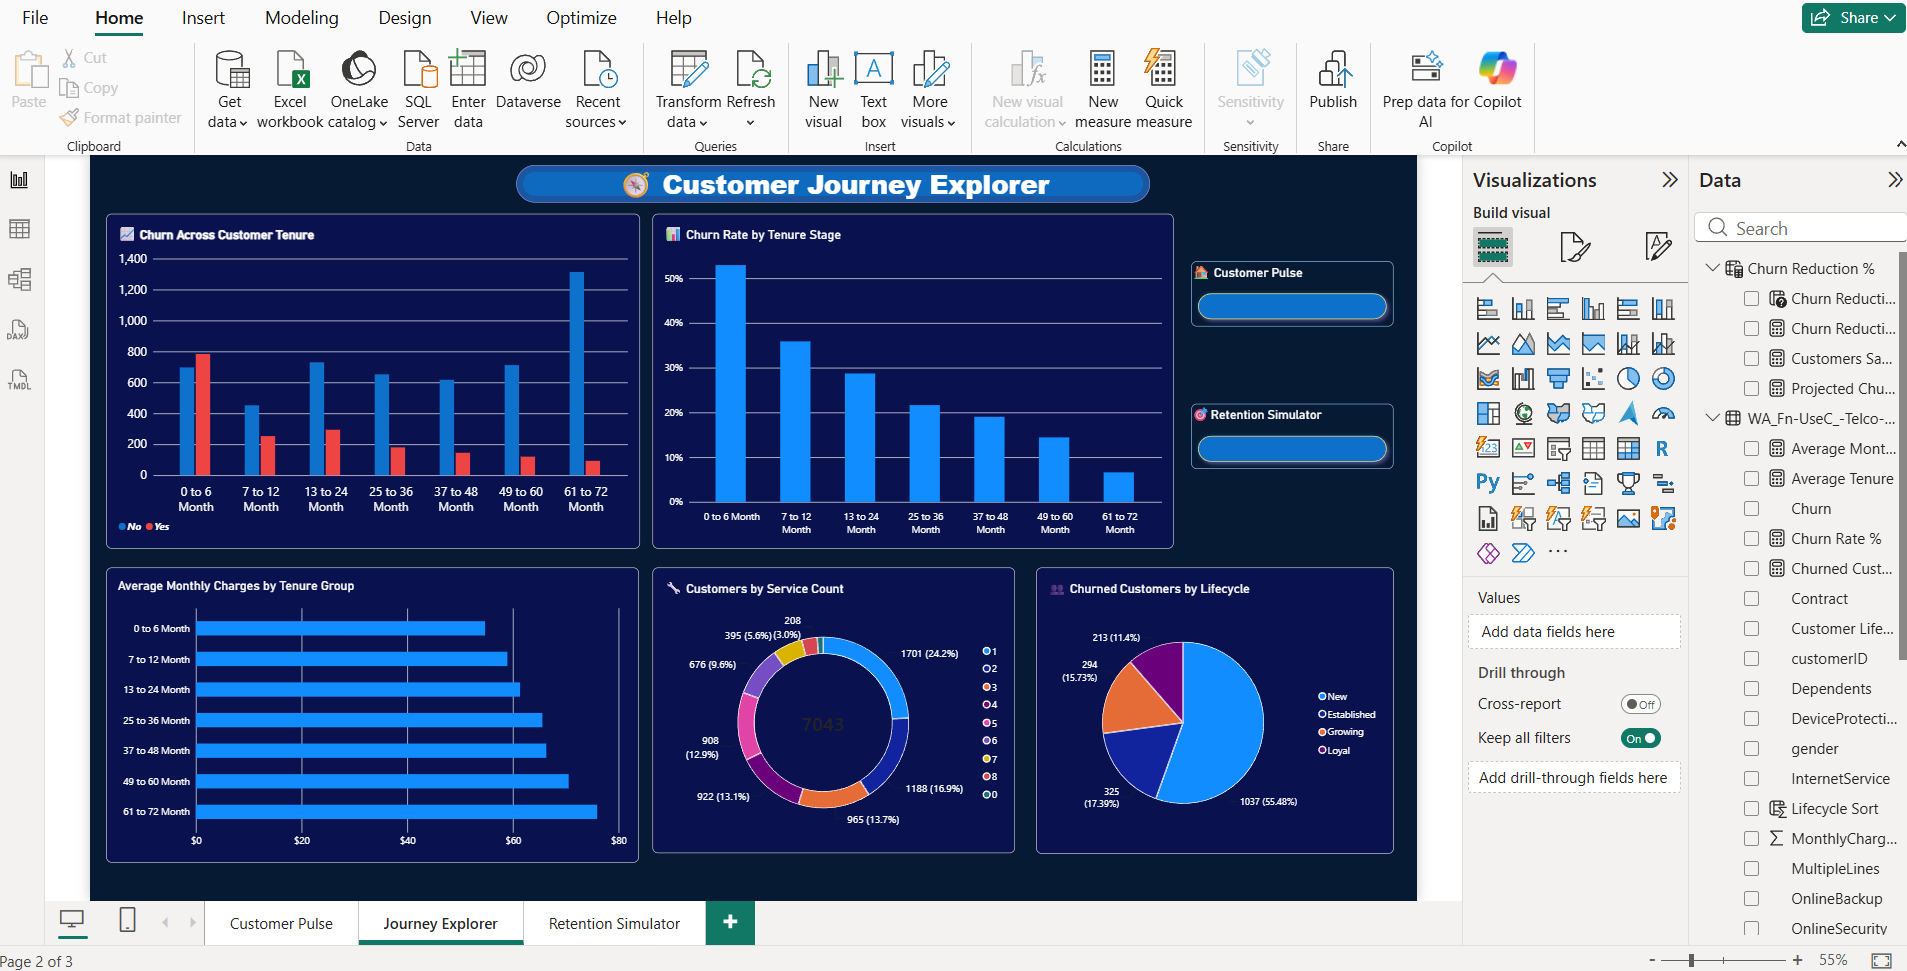

This screenshot's page, from the dashboard's own definition file:
{"tool":"powerbi","page":{"name":"Journey Explorer","canvas":[1920,1080],"ordinal":1},"visuals":[{"type":"clusteredColumnChart","title":"📈 Churn Across Customer Tenure","fields":{"Category":["WA_Fn-UseC_-Telco-Customer-Churn.Tenure Group"],"Series":["WA_Fn-UseC_-Telco-Customer-Churn.Churn"],"Y":["Count(WA_Fn-UseC_-Telco-Customer-Churn.customerID)"]},"box":[23.5,85.1,772.7,485],"z":0},{"type":"clusteredColumnChart","title":"📊 Churn Rate by Tenure Stage","fields":{"Category":["WA_Fn-UseC_-Telco-Customer-Churn.Tenure Group"],"Y":["WA_Fn-UseC_-Telco-Customer-Churn.Churn Rate %"]},"box":[814.3,85.1,754.6,485],"z":1000},{"type":"barChart","fields":{"Category":["WA_Fn-UseC_-Telco-Customer-Churn.Tenure Group"],"Y":["WA_Fn-UseC_-Telco-Customer-Churn.Average Monthly Charges"]},"box":[23.5,597.2,770.9,427.1],"z":2000},{"type":"donutChart","title":"🔧 Customers by Service Count","fields":{"Category":["WA_Fn-UseC_-Telco-Customer-Churn.Service Count"],"Y":["Count(WA_Fn-UseC_-Telco-Customer-Churn.customerID)"]},"box":[814.3,597.2,524.9,413.7],"z":3000},{"type":"pieChart","title":"👥 Churned Customers by Lifecycle","fields":{"Category":["WA_Fn-UseC_-Telco-Customer-Churn.Customer Lifecycle"],"Y":["WA_Fn-UseC_-Telco-Customer-Churn.Churned Customers"]},"box":[1369.9,597.2,517.6,414.4],"z":4000},{"type":"textbox","title":"🧭 Customer Journey Explorer","box":[617.1,14.5,917.5,54.3],"z":5000},{"type":"actionButton","title":"🏠 Customer Pulse","box":[1594.3,153.8,293.2,94.1],"z":6000},{"type":"actionButton","title":"🎯Retention Simulator","box":[1594.3,360.1,293.2,94.1],"z":7000}]}

Visuals, with their boxes on the page's 1920x1080 design canvas (x1, y1, x2, y2). These are canvas units, not pixel positions in the 1907x971 screenshot, which may show the page scaled, cropped or inside an application window:
"📈 Churn Across Customer Tenure" clusteredColumnChart: region(24, 85, 796, 570)
"📊 Churn Rate by Tenure Stage" clusteredColumnChart: region(814, 85, 1569, 570)
barChart - WA_Fn-UseC_-Telco-Customer-Churn.Tenure Group x WA_Fn-UseC_-Telco-Customer-Churn.Average Monthly Charges: region(24, 597, 794, 1024)
"🔧 Customers by Service Count" donutChart: region(814, 597, 1339, 1011)
"👥 Churned Customers by Lifecycle" pieChart: region(1370, 597, 1888, 1012)
"🧭 Customer Journey Explorer" textbox: region(617, 14, 1535, 69)
"🏠 Customer Pulse" actionButton: region(1594, 154, 1888, 248)
"🎯Retention Simulator" actionButton: region(1594, 360, 1888, 454)
